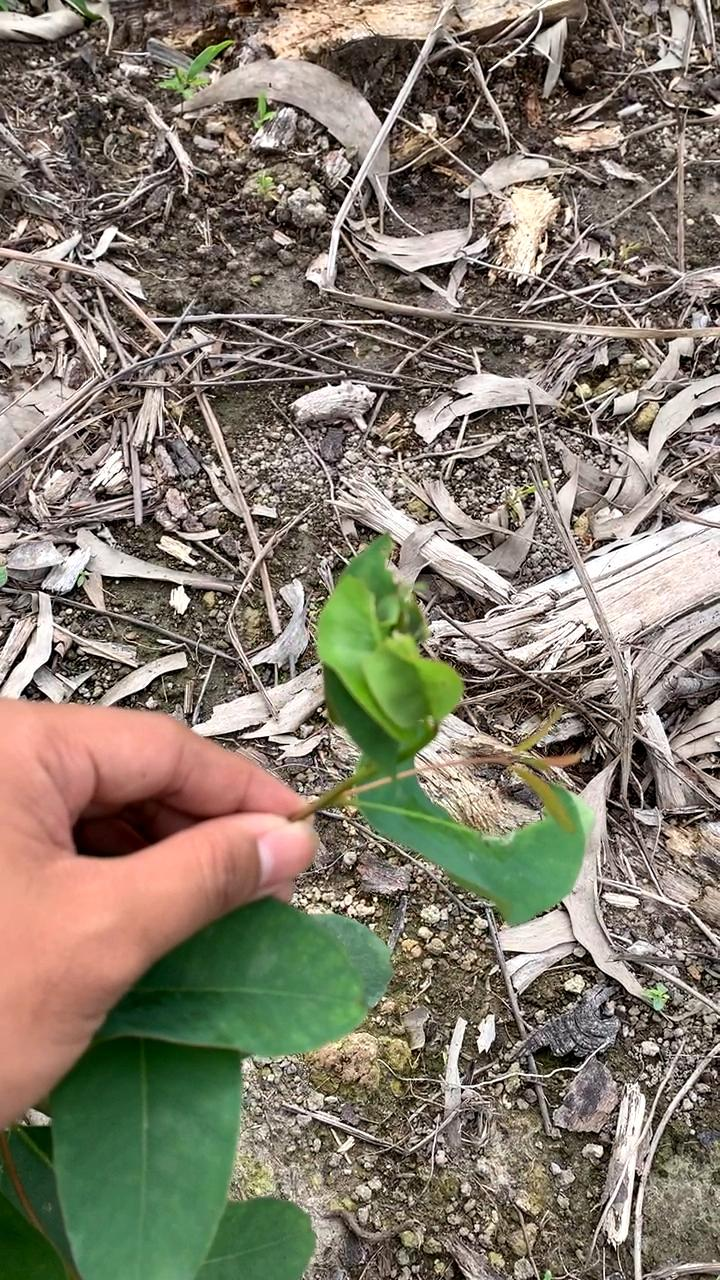Leaf Roller - Leaf: (283, 503, 483, 788)
